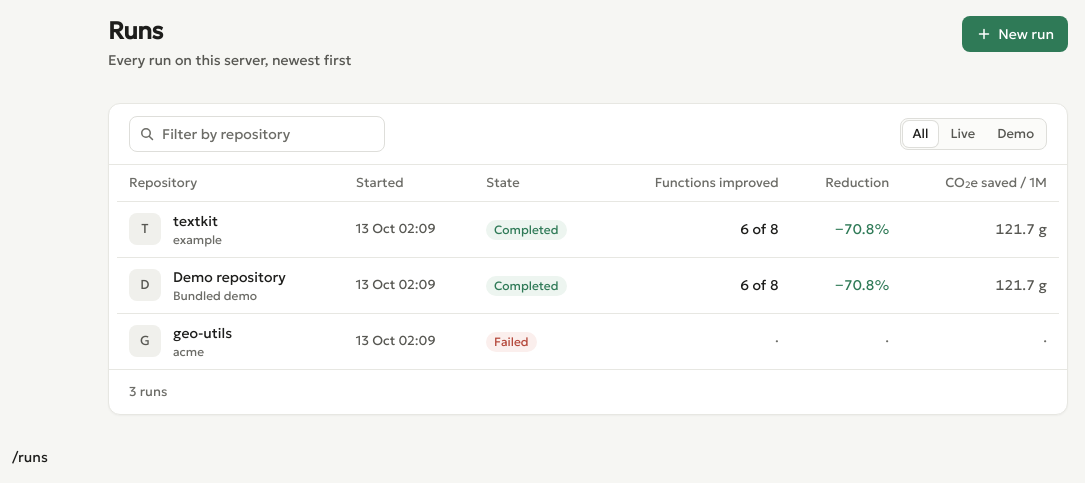
Test case: RunsPage › filters by repository and run type through the URL
This screenshot has width=1085, height=483.
In the search field labelled "Filter by repository": (257, 134) [129,116,385,152], type "GEO"
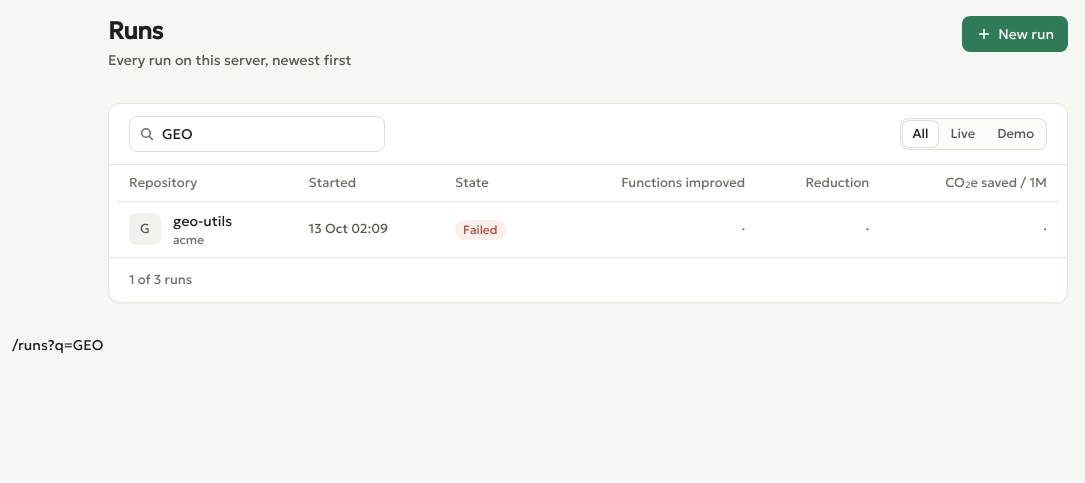
Result: the text with test id "where" reads "/runs?q=GEO" at [12,336,104,354]
Clear the search field named "Filter by repository": (257, 134) [129,116,385,152]
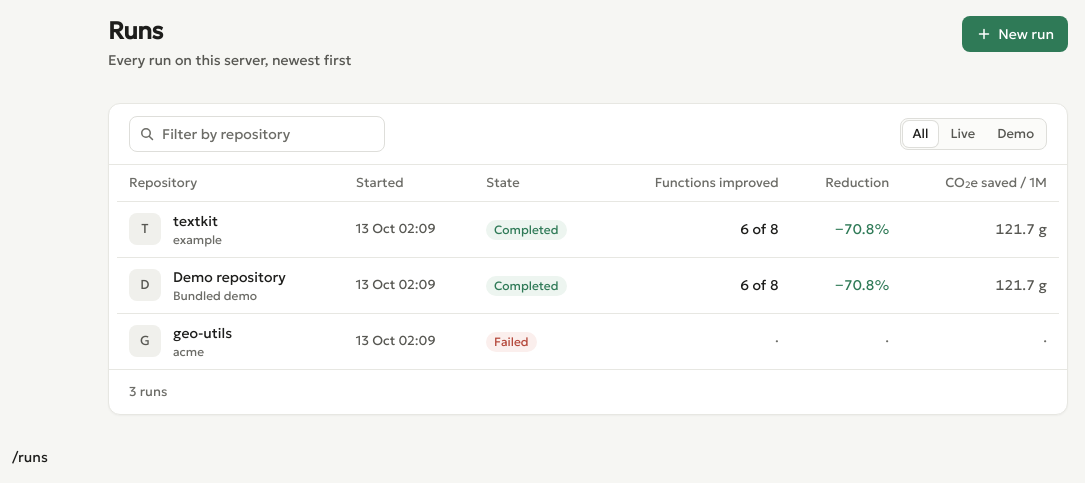
Click the radio button labelled "Demo": (1016, 134) [987,121,1044,147]
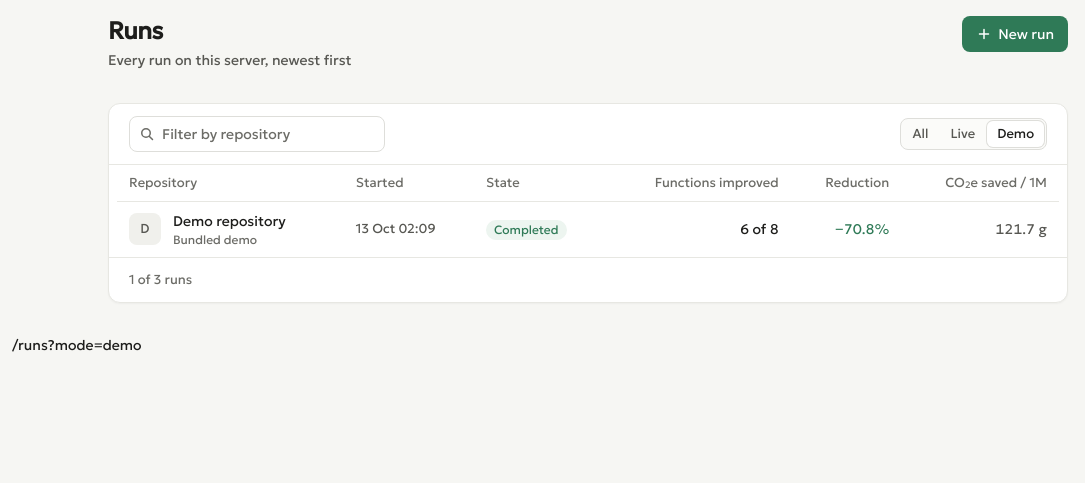
Result: the text with test id "where" reads "/runs?mode=demo" at [12,336,142,354]
Click the radio button labelled "All": (921, 134) [903,121,938,147]
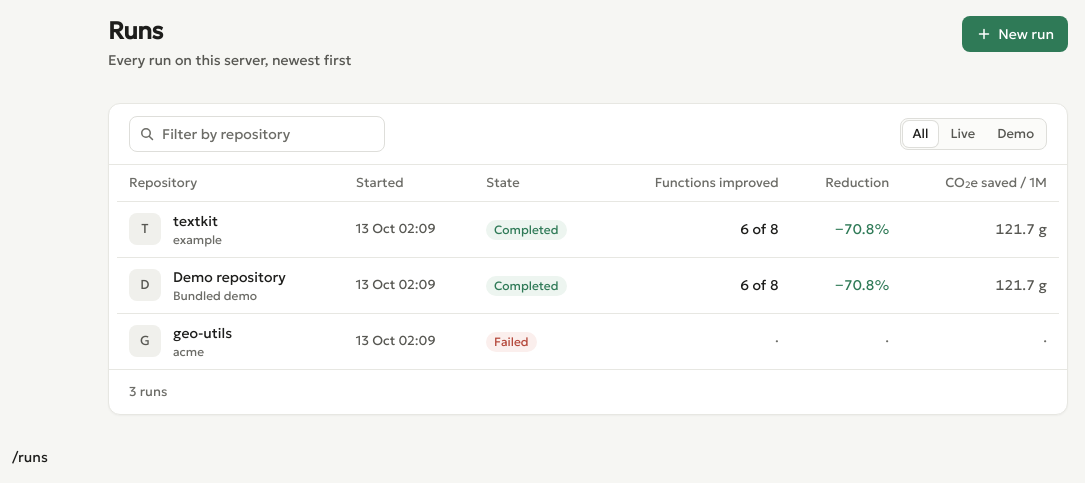
Result: the text with test id "where" reads "/runs" at [12,448,48,466]
